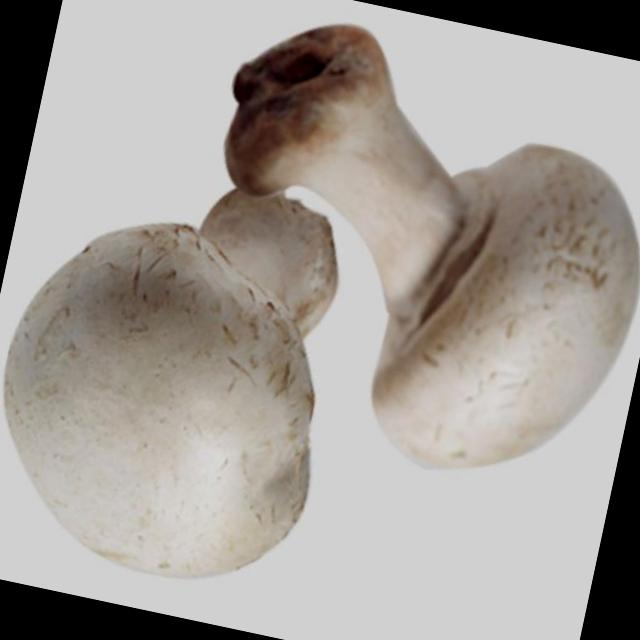Agaricus bisporus: (164, 4, 640, 502), (0, 145, 367, 603)
